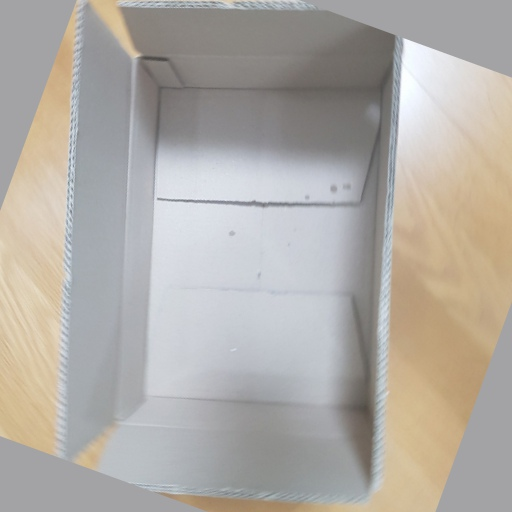Paper_0: (52, 1, 407, 507)
